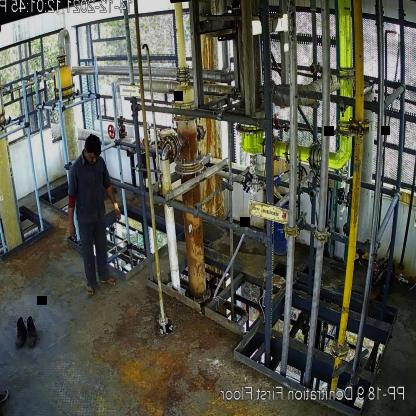no_shoes: (84, 285, 98, 299), (100, 276, 118, 286)
shoes: (23, 315, 38, 349), (14, 318, 26, 348)
